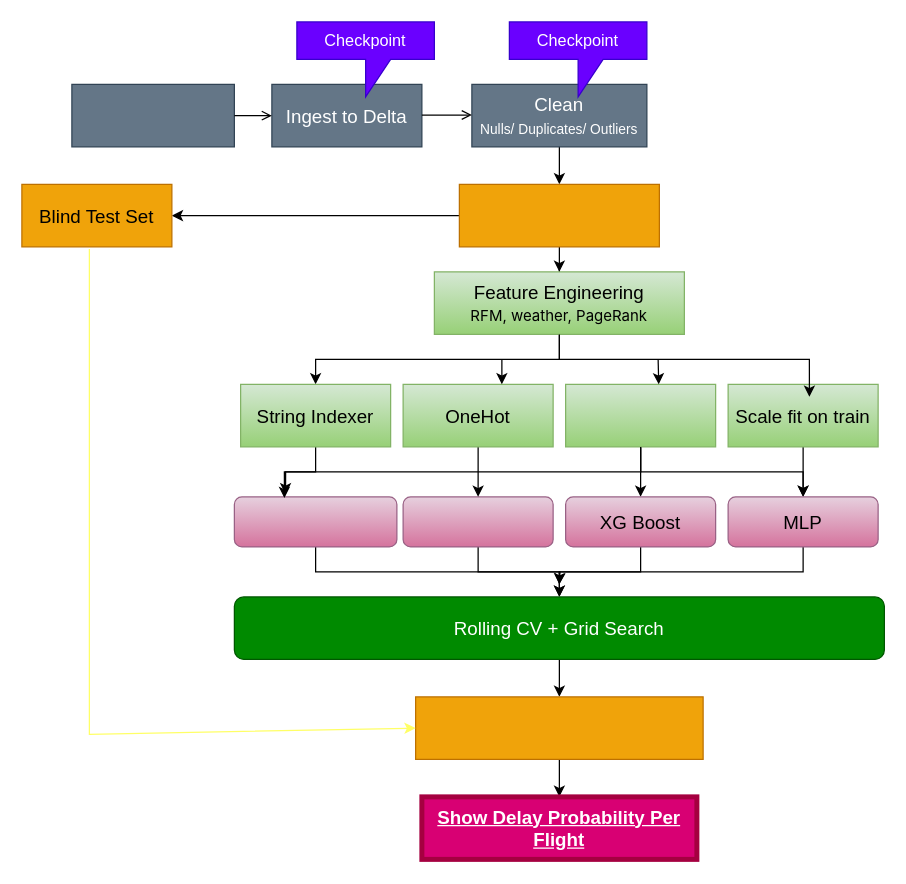
Image size: 906x884. Some labels were removed from this diagram. The centre of each missing label's shape, as x and y in pixels:
Evaluate PR-AUC, ROC-AUC, Recal l: (x=558, y=727)
Logistic Regression: (x=315, y=521)
Random Forest: (x=477, y=521)
Raw OTPW: (x=152, y=115)
Split by time Q4 held out: (x=558, y=215)
Vector Assembler: (x=640, y=415)
